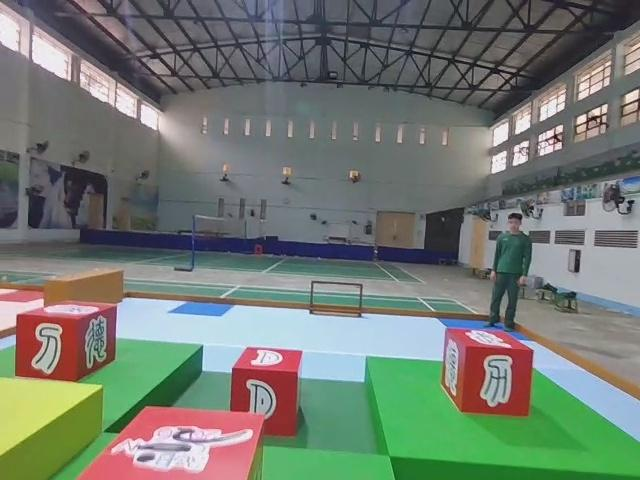R1: (72, 403, 265, 480)
R2 Fake: (444, 328, 533, 419), (17, 301, 117, 381)
R2 Real: (231, 347, 302, 437)
